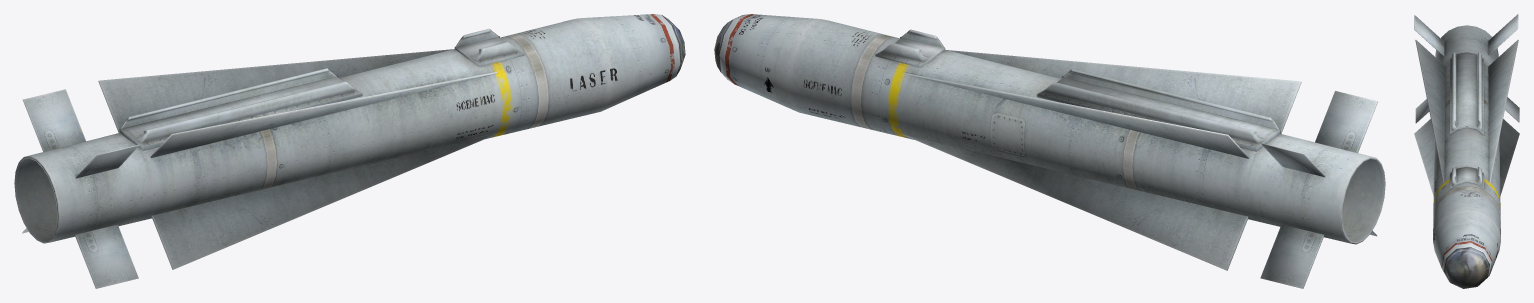
Rendered from agm65.glb.
The picture shows the model from 3 angles, left to right: view 1: azimuth 30°, elevation 25°; view 2: azimuth 150°, elevation 25°; view 3: azimuth 270°, elevation 25°; orthographic projection. The views are drawn at different scales.
Visible parts, largest first — view 1: AGM-65 Maverick; view 2: AGM-65 Maverick; view 3: AGM-65 Maverick.
Part boxes in pixels (<box>): AGM-65 Maverick: <box>14,14,685,288</box>; AGM-65 Maverick: <box>714,14,1385,288</box>; AGM-65 Maverick: <box>1414,14,1519,288</box>.
Bounding box in the file's own units: 2.48 × 0.5027 × 0.5045.
1 material, 1 textured.
